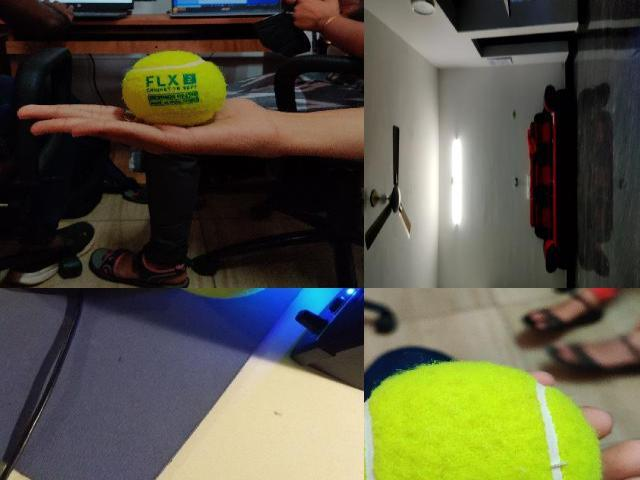tennis-ball: (364, 363, 600, 479), (122, 51, 225, 123)
